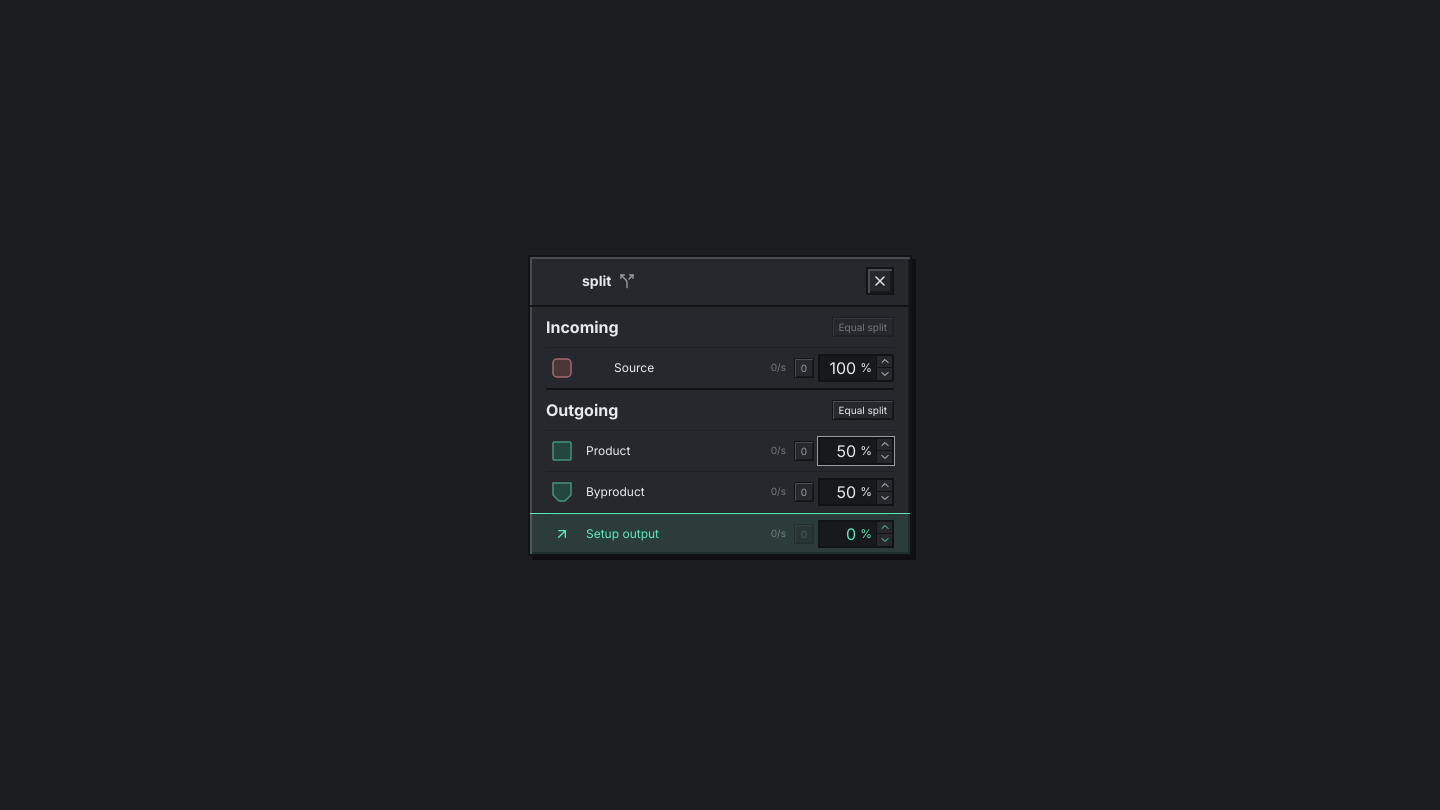
Scenario: only opens explicitly, commits on Close, and reopens saved percentages
This screenshot has width=1440, height=810.
Expected: the button with aria-label "Equal split incoming" is shown, [832,316,894,336]
Expected: the text "Source" is shown, [614,360,654,376]
Replace the text in the number field named "Product output percentage" with "75" at (838,450), box [820,438,856,462]
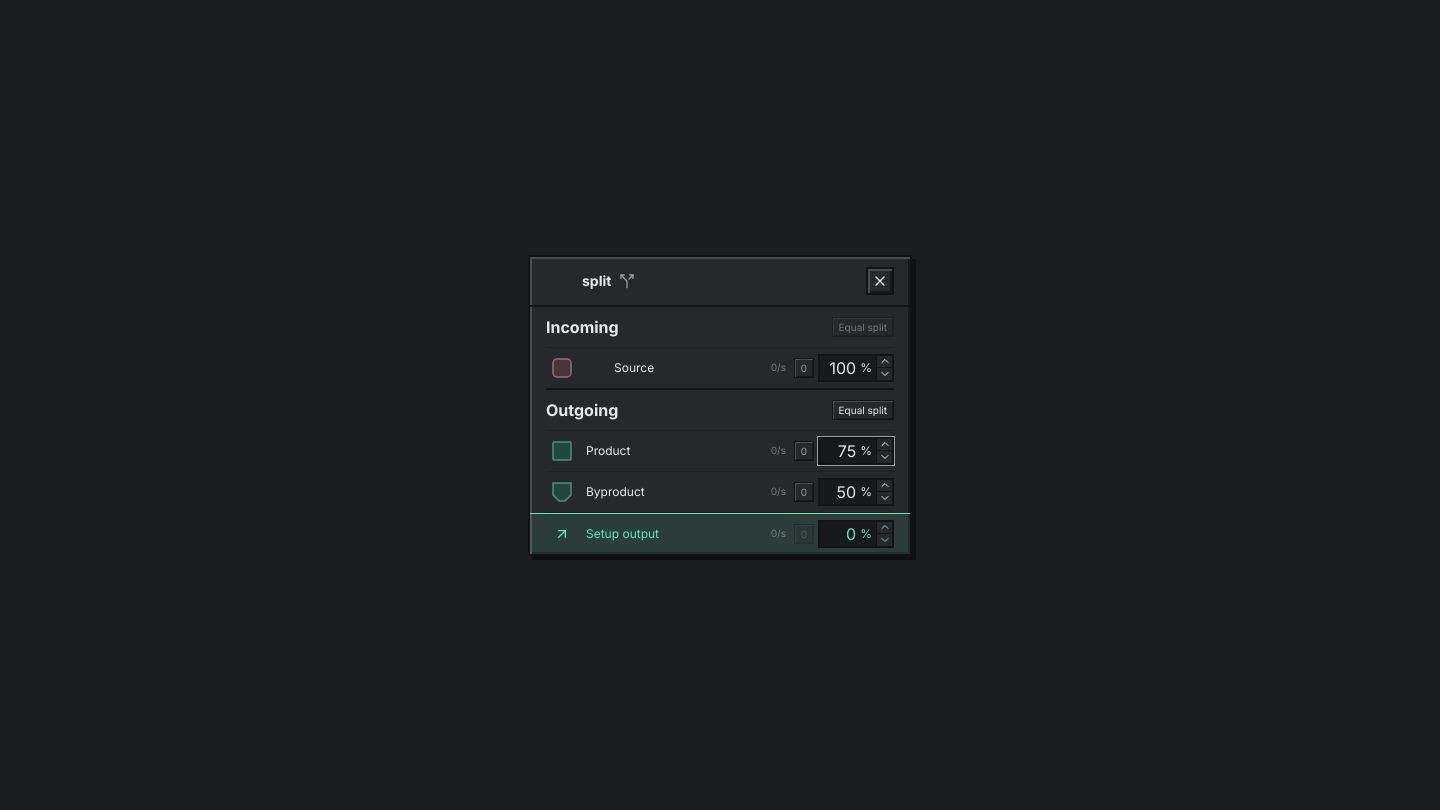
Click the button named "Close".
click(880, 280)  # box [866,266,894,294]
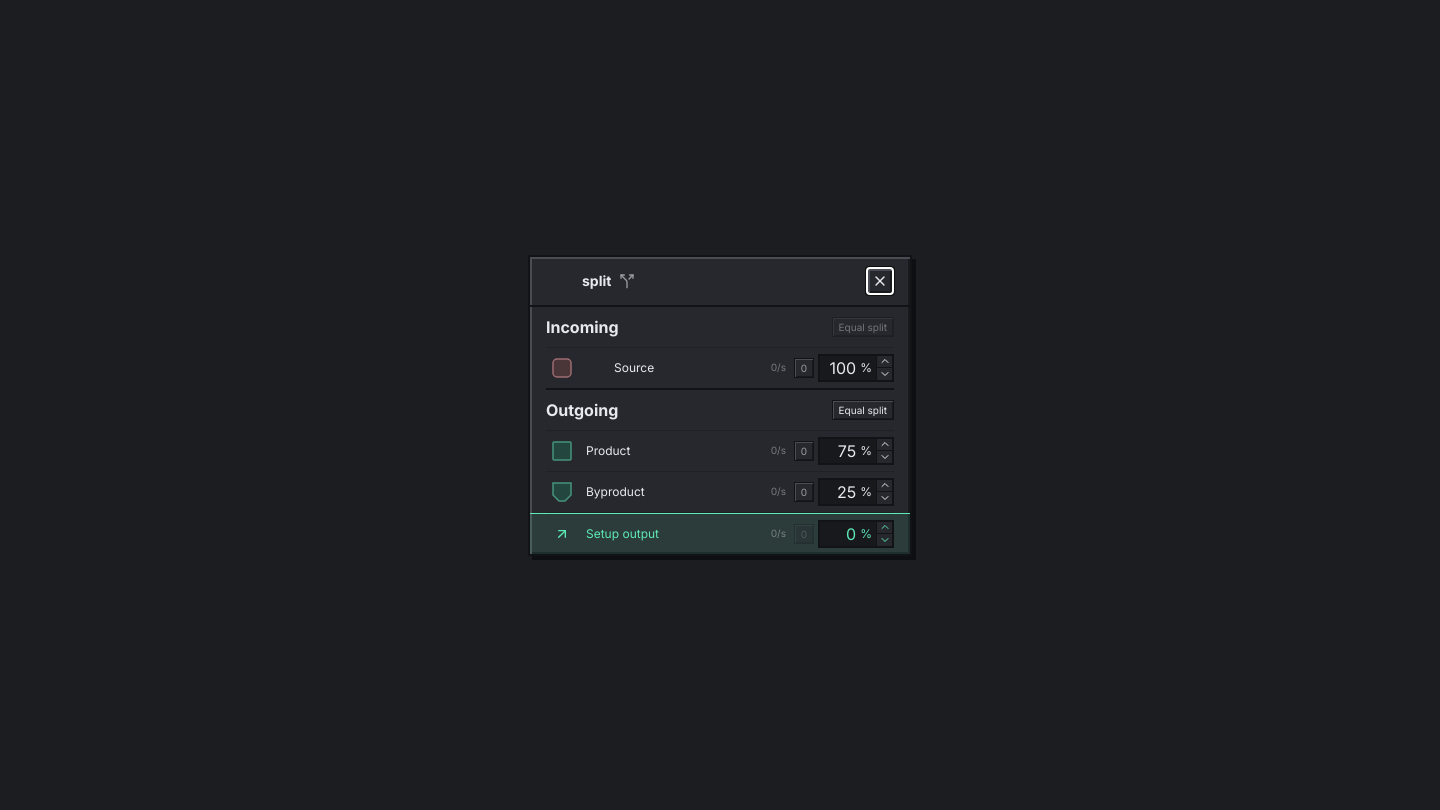
Expected: the number field named "Setup output percentage" holds "0", [820,522,856,546]
Expected: the number field named "Product output percentage" holds "75", [820,438,856,462]
Expected: the number field named "Byproduct output percentage" holds "25", [820,480,856,504]
